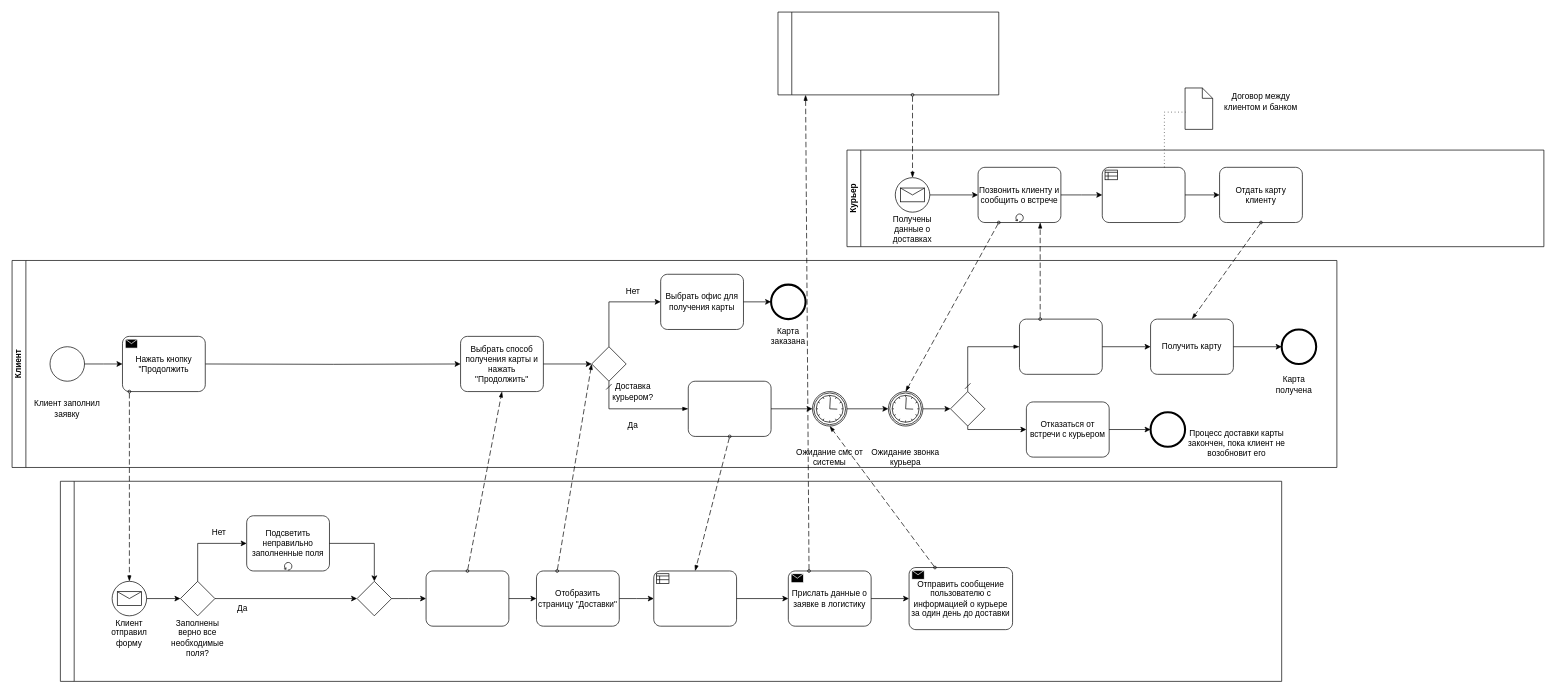
The diagram is 1556 pixels wide and 693 high, and some of its shapes have lost their labels. The shapes that lost their labels are listed below. From the top down, each one's box as (x1, y1, x2, y2) in pixels, then its label:
(777, 11, 999, 95): Логистика
(1102, 167, 1185, 223): Подписать с клиентом все необходимые документы
(1019, 318, 1102, 374): Дать подтверждение на встречу
(688, 381, 771, 436): Заполнить необходимые поля для доставки и нажать "Заказать доставку"
(425, 570, 509, 626): Отобразить страницу "Выбора доставки"
(60, 481, 1282, 681): Система
(653, 570, 737, 626): Обработать заявку
